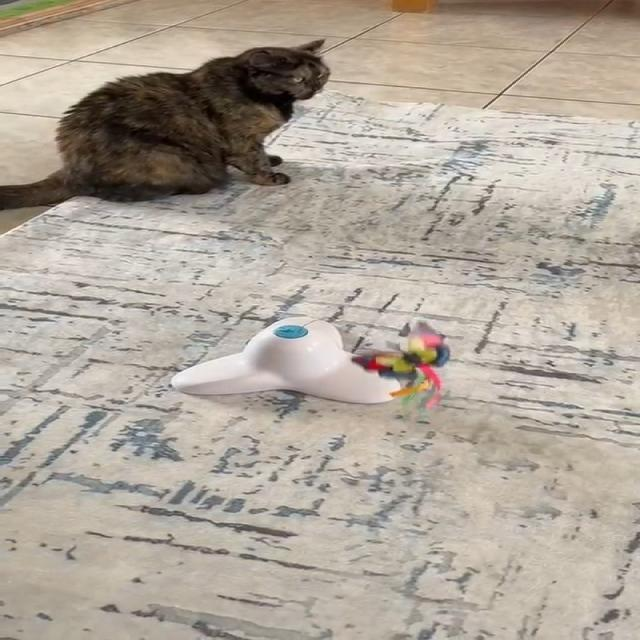authorized: (0, 38, 331, 210)
